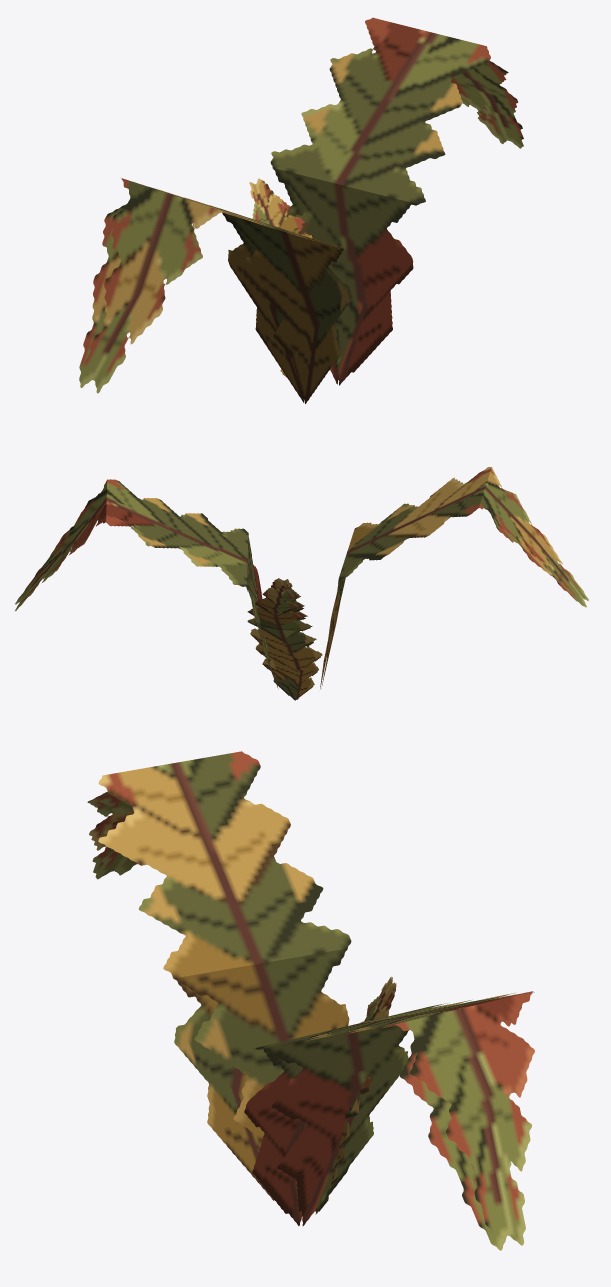
File: SM_VG03_FernDrooping.fbx
3 renders of one model, top to bottom at view 1: azimuth 30°, elevation 25°; view 2: azimuth 150°, elevation 25°; view 3: azimuth 270°, elevation 25°, orthographic. The views are drawn at different scales.
Visible parts, largest first — view 1: VG03_Fronds; view 2: VG03_Fronds; view 3: VG03_Fronds.
Boxes of the visible parts, x1,y1,x2,y2 form: VG03_Fronds: (79,17,523,403); VG03_Fronds: (15,467,588,700); VG03_Fronds: (87,751,534,1250).
Bounding box in the file's own units: 0.8843 × 0.3666 × 0.5665.
